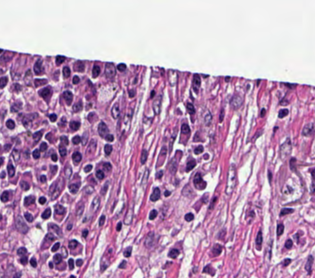nucleus: (168, 150, 181, 173), (226, 165, 235, 194), (156, 146, 166, 166), (193, 173, 205, 189), (280, 139, 290, 158), (51, 180, 61, 198), (230, 94, 242, 108), (39, 87, 51, 100), (48, 223, 61, 235), (98, 122, 108, 137), (192, 74, 200, 92), (153, 96, 161, 113), (124, 207, 132, 224), (144, 232, 153, 247), (302, 123, 313, 135), (169, 70, 177, 86), (105, 63, 114, 77), (87, 139, 96, 153), (111, 103, 119, 118), (63, 91, 72, 104), (150, 187, 159, 200), (256, 230, 262, 249), (34, 60, 42, 74), (91, 197, 99, 211), (186, 159, 195, 171), (49, 181, 57, 194), (74, 61, 84, 71), (72, 152, 81, 163), (140, 149, 147, 163), (34, 79, 47, 86), (280, 208, 293, 215), (72, 101, 81, 111), (69, 121, 79, 130), (69, 183, 78, 193), (45, 232, 54, 242), (186, 103, 194, 114), (181, 123, 189, 134), (92, 65, 99, 77), (204, 112, 211, 124), (142, 169, 148, 183), (76, 204, 83, 216), (55, 205, 64, 214), (42, 208, 50, 218), (63, 66, 70, 77), (59, 145, 66, 156), (64, 167, 71, 178), (56, 55, 64, 64), (278, 109, 287, 117), (87, 113, 96, 121), (33, 131, 41, 140), (72, 135, 80, 144), (194, 145, 202, 154), (96, 170, 104, 179), (83, 186, 92, 194), (210, 196, 216, 208), (277, 223, 283, 235), (68, 240, 77, 248), (104, 144, 111, 154), (185, 213, 193, 221), (117, 63, 126, 70), (149, 210, 156, 219), (218, 229, 225, 238), (285, 239, 292, 248), (101, 184, 107, 194), (99, 215, 105, 225), (105, 134, 113, 141), (60, 136, 67, 144), (32, 150, 39, 158), (84, 164, 91, 172), (72, 76, 79, 83), (49, 114, 56, 121), (103, 163, 110, 170), (283, 83, 295, 87), (219, 109, 223, 121), (40, 142, 46, 150), (51, 153, 57, 161), (128, 90, 134, 97), (156, 171, 162, 178), (260, 108, 265, 116), (116, 222, 121, 230), (82, 229, 87, 237), (39, 197, 45, 203), (40, 175, 45, 182), (291, 158, 294, 169), (51, 166, 56, 172), (164, 191, 170, 196), (280, 100, 286, 104), (46, 133, 50, 139), (268, 171, 270, 181), (151, 91, 154, 97), (225, 77, 229, 81), (204, 154, 207, 158)
